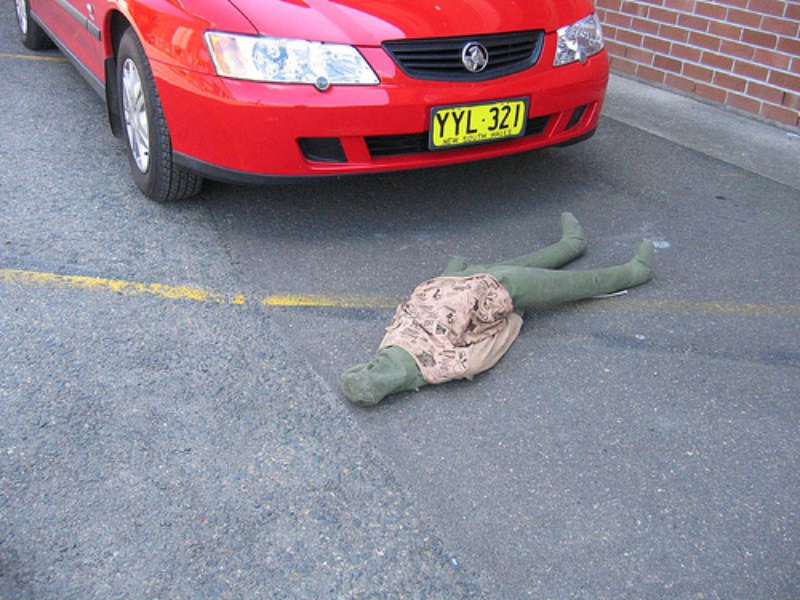car: (1, 1, 611, 204)
